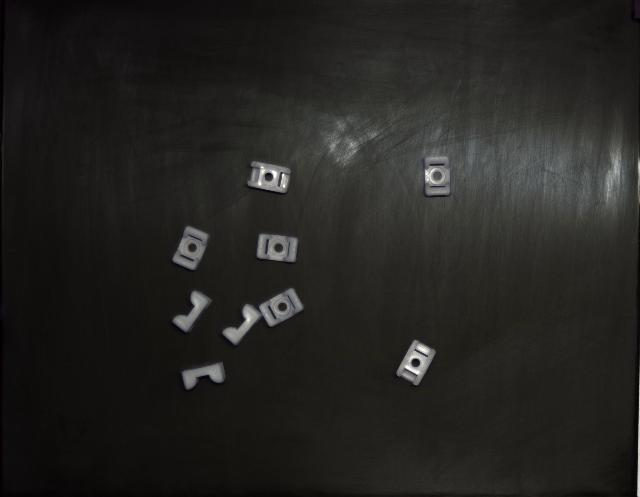first_side: (259, 289, 304, 328), (172, 226, 210, 271), (256, 234, 299, 262), (424, 156, 451, 196)
second_side: (396, 340, 435, 386), (248, 161, 291, 194)
third_side: (222, 304, 262, 346), (172, 291, 211, 332), (181, 362, 225, 390)
